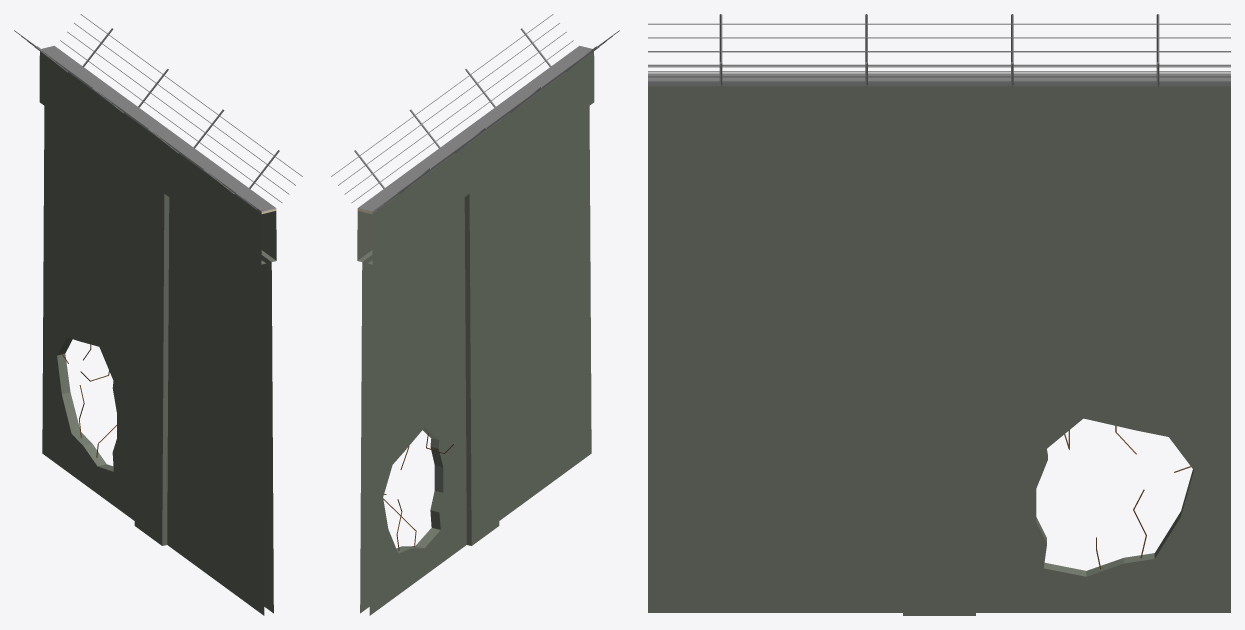
File: Wall_05.fbx
3 views of the same model, side by side, from view 1: azimuth 30°, elevation 25°; view 2: azimuth 150°, elevation 25°; view 3: azimuth 270°, elevation 25° (orthographic). The views are drawn at different scales.
Parts seen in each view (by area): view 1: Booléen; view 2: Booléen; view 3: Booléen.
Boxes of the visible parts, box(x1,y1,x2,y2) form: Booléen: box(14, 14, 302, 615); Booléen: box(331, 14, 619, 615); Booléen: box(648, 14, 1230, 615).
Size of the model in its own units: 79.96 by 433 by 400.
Materials: 1 (1 with a texture image).
